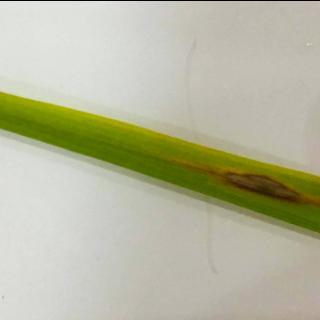Blast: (174, 161, 314, 214)
